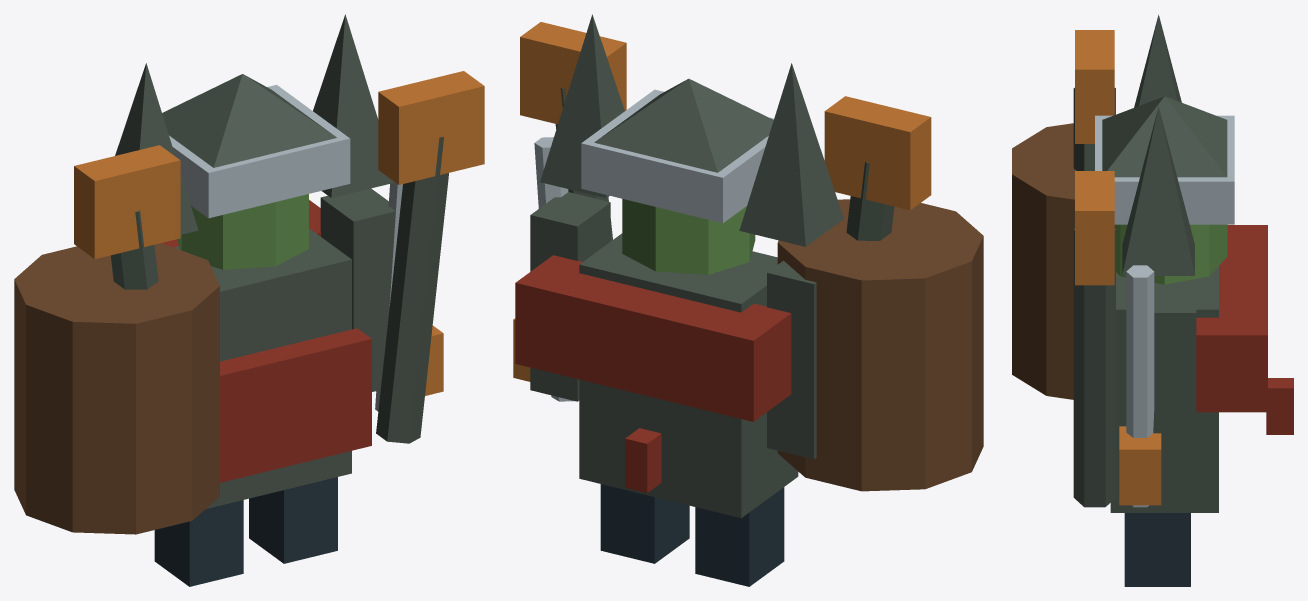
The model's file is raider.obj.
3 renders of one model, left to right at view 1: azimuth 30°, elevation 25°; view 2: azimuth 150°, elevation 25°; view 3: azimuth 270°, elevation 25°, orthographic. The views are drawn at different scales.
Parts seen in each view (by area): view 1: infantry; view 2: infantry; view 3: infantry.
Part boxes in pixels (x1,y1,x2,y2): infantry: [14, 14, 484, 586]; infantry: [513, 14, 983, 586]; infantry: [1012, 14, 1293, 586].
Bounding box in the file's own units: 1.61 × 1.79 × 0.9273.
